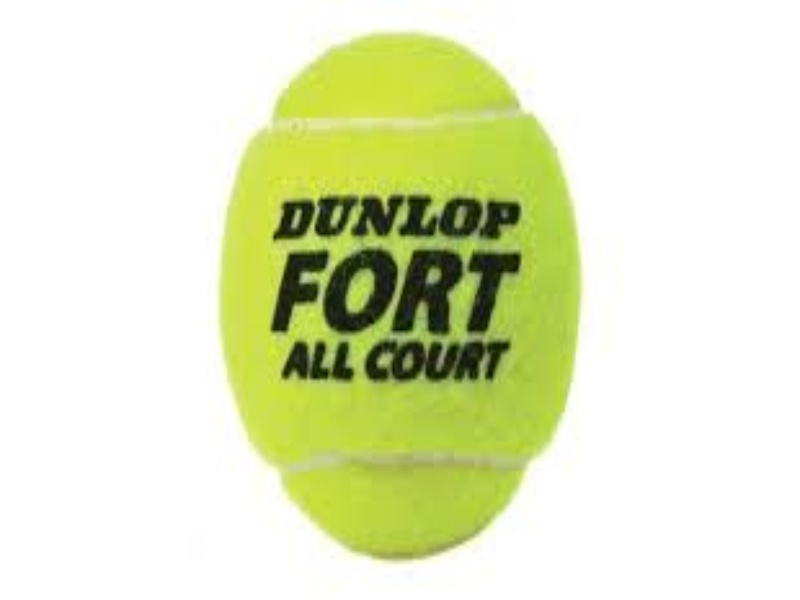tennis ball: (215, 21, 588, 578)
